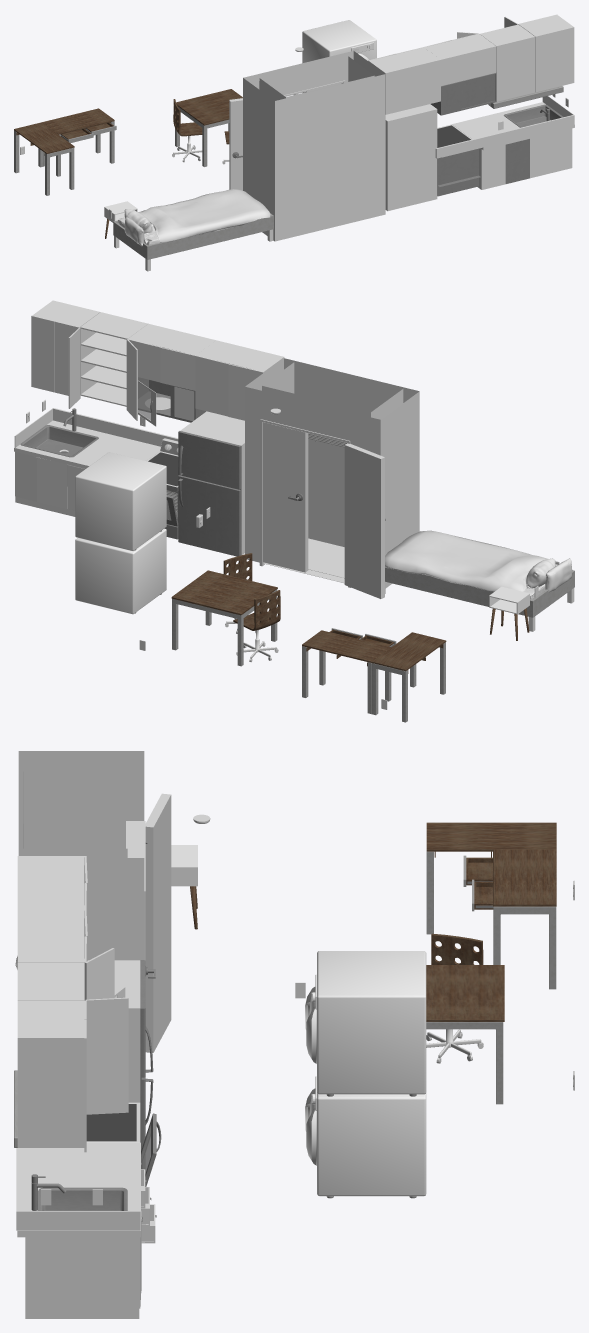
Rendered from Furnitures.fbx.
The picture shows the model from 3 angles, top to bottom: view 1: azimuth 30°, elevation 25°; view 2: azimuth 150°, elevation 25°; view 3: azimuth 270°, elevation 25°; orthographic projection. The views are drawn at different scales.
Parts seen in each view (by area): view 1: Closet, UpperCabinet, Kitchen Sink, Bed, Fridge, Desk 1, Dryer, Table 1, Microwave, Closet Door 1, Chair 1, Bedside; view 2: Closet, UpperCabinet, Kitchen Sink, Bed, Dryer, Closet Door 2, Closet Door 1, Washer, Desk 1, Top Door.001, Table 1, Top Door (+6 smaller); view 3: UpperCabinet, Kitchen Sink, Closet, Dryer, Washer, Desk 1, Closet Door 1, Table 1, Fridge, Chair 1, Bedside, Top Door.
Boxes of the visible parts, box(x1,y1,x2,y2) form: Closet: box(243, 51, 385, 241); UpperCabinet: box(368, 14, 574, 114); Kitchen Sink: box(435, 86, 574, 196); Bed: box(113, 189, 273, 271); Fridge: box(385, 104, 437, 211); Desk 1: box(14, 108, 116, 195); Dryer: box(302, 20, 376, 63); Table 1: box(175, 89, 242, 166); Microwave: box(430, 73, 496, 115); Closet Door 1: box(229, 98, 242, 190); Chair 1: box(172, 99, 202, 162); Bedside: box(104, 201, 137, 238); Closet: box(245, 358, 419, 588); UpperCabinet: box(31, 300, 284, 420); Kitchen Sink: box(14, 408, 178, 539); Bed: box(385, 530, 574, 631); Dryer: box(75, 452, 166, 550); Closet Door 2: box(263, 422, 308, 572); Closet Door 1: box(344, 443, 384, 598); Washer: box(75, 528, 166, 614); Desk 1: box(302, 628, 446, 722); Top Door.001: box(178, 475, 241, 556); Table 1: box(171, 570, 277, 666); Top Door: box(178, 431, 241, 489); UpperCabinet: box(17, 856, 128, 1152); Kitchen Sink: box(14, 1070, 161, 1318); Closet: box(18, 751, 147, 960); Dryer: box(305, 951, 426, 1096); Washer: box(305, 1076, 426, 1198); Desk 1: box(426, 822, 556, 989); Closet Door 1: box(145, 793, 171, 1052); Table 1: box(426, 965, 504, 1104); Fridge: box(87, 960, 140, 1102); Chair 1: box(426, 933, 483, 1063); Bedside: box(171, 845, 197, 929); Top Door: box(140, 960, 153, 1079).
Size of the model in its own units: 6.25 by 3.49 by 10.94.
